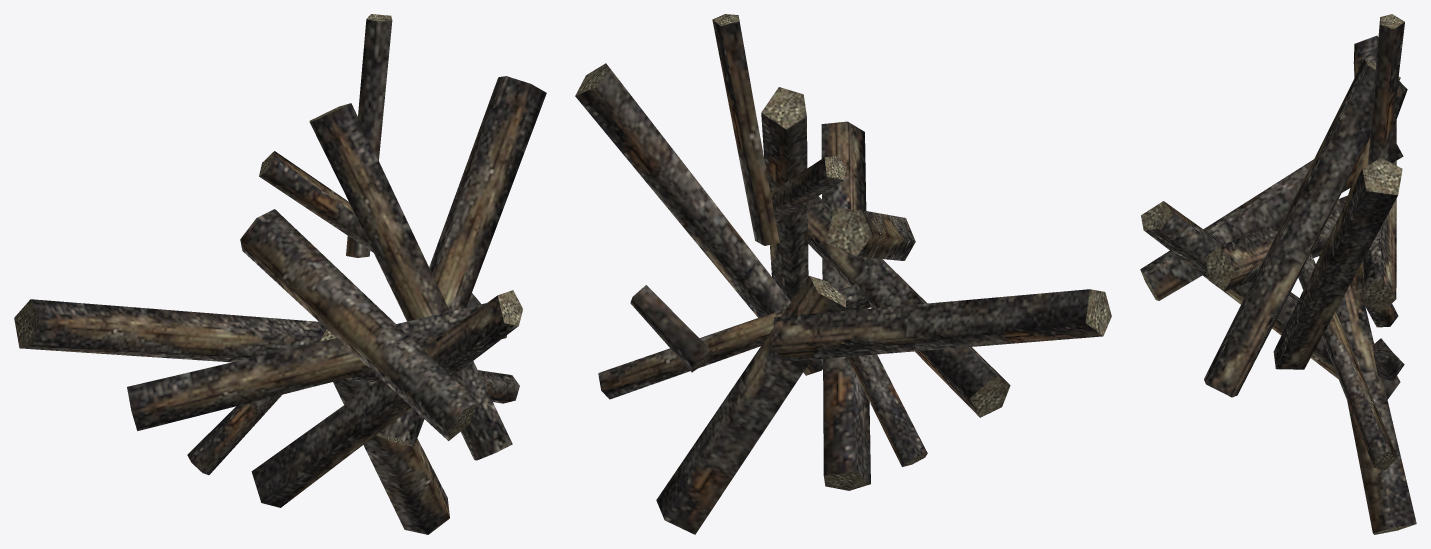
Rendered from tdr_h_campfire_wood.obj.
3 views of the same model, side by side, from view 1: azimuth 30°, elevation 25°; view 2: azimuth 150°, elevation 25°; view 3: azimuth 270°, elevation 25° (orthographic). The views are drawn at different scales.
Visible parts, largest first — view 1: Body.campfire_wood_b.smd.mesh_0; view 2: Body.campfire_wood_b.smd.mesh_0; view 3: Body.campfire_wood_b.smd.mesh_0.
Boxes of the visible parts, x1=… form: Body.campfire_wood_b.smd.mesh_0: x1=14, y1=14, x2=546, y2=534; Body.campfire_wood_b.smd.mesh_0: x1=575, y1=14, x2=1111, y2=534; Body.campfire_wood_b.smd.mesh_0: x1=1140, y1=14, x2=1416, y2=534.
Size of the model in its own units: 52.33 by 49.99 by 25.19.
1 material, 1 textured.
